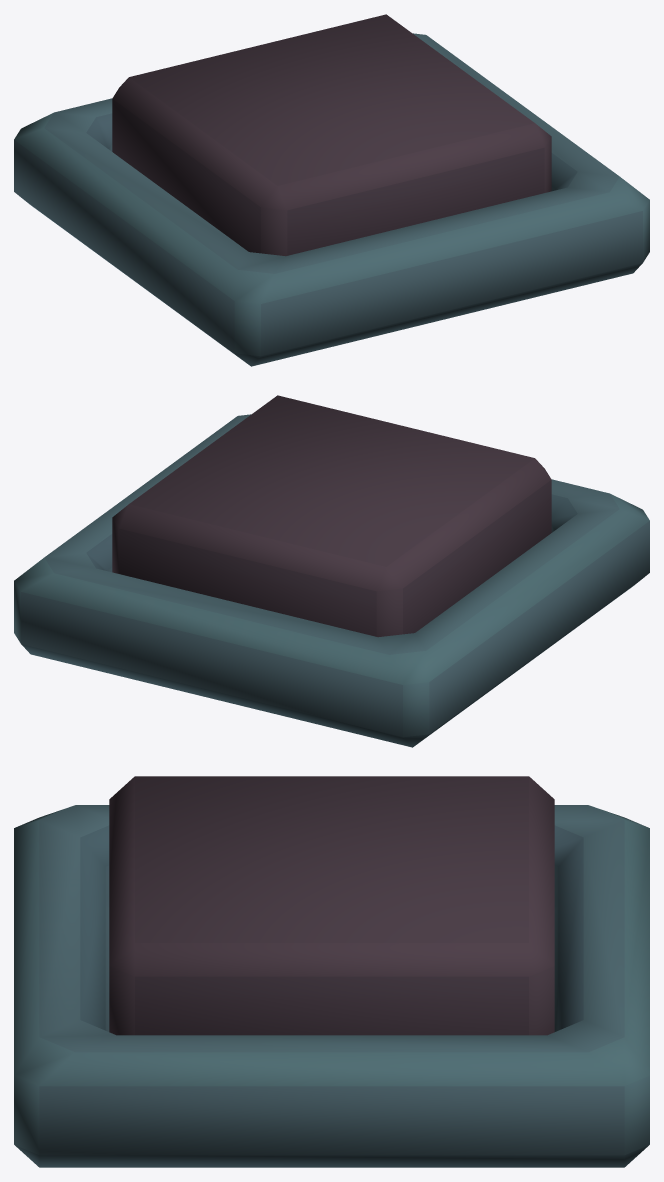
File: switch_01.fbx
3 views of the same model, one above another, from view 1: azimuth 30°, elevation 25°; view 2: azimuth 150°, elevation 25°; view 3: azimuth 270°, elevation 25° (orthographic). The views are drawn at different scales.
Parts seen in each view (by area): view 1: switch_01, switch_plate; view 2: switch_01, switch_plate; view 3: switch_01, switch_plate.
Boxes of the visible parts, x1,y1,x2,y2 form: switch_01: (14,33,649,366); switch_plate: (112,14,551,256); switch_01: (14,414,649,747); switch_plate: (112,395,551,637); switch_01: (14,805,649,1167); switch_plate: (109,776,554,1035).
Bounding box in the file's own units: 125 × 40 × 125.
1 material, 1 textured.
